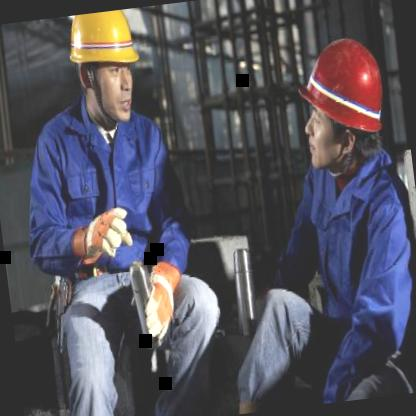helmet: (285, 16, 403, 183), (57, 7, 152, 132)
